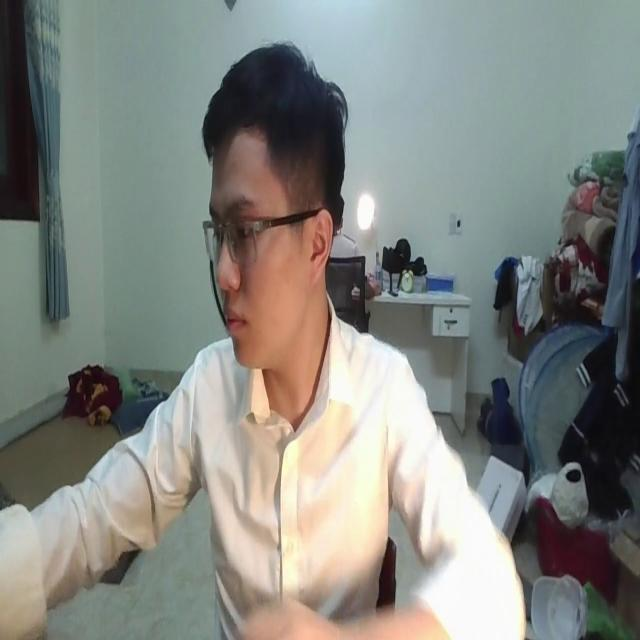student: (0, 44, 526, 640)
